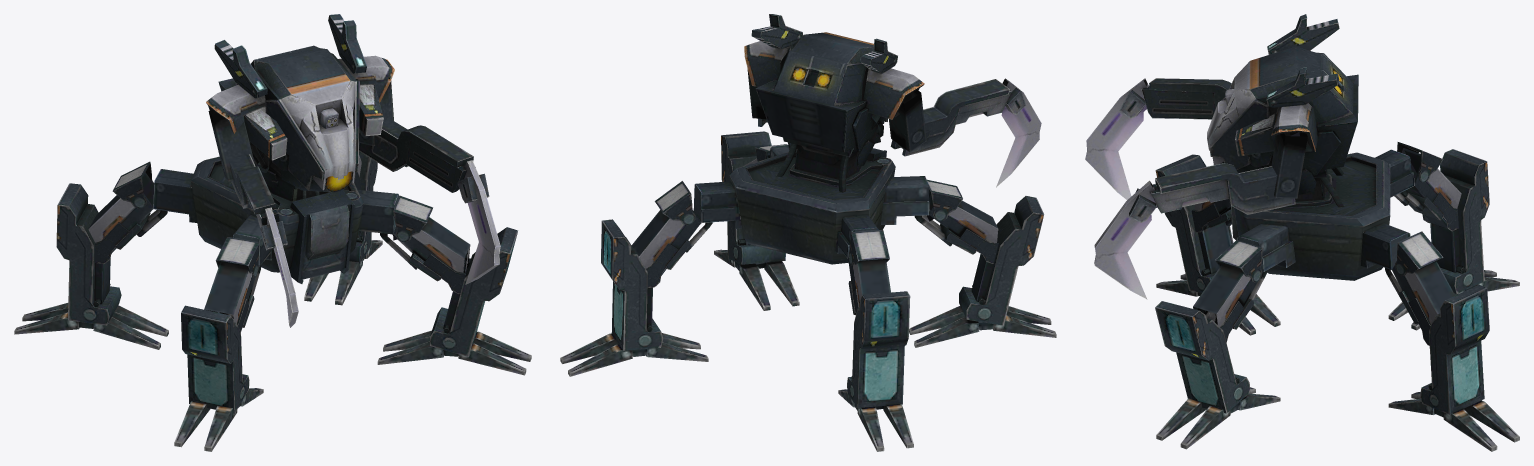
3 renders of one model, left to right at view 1: azimuth 30°, elevation 25°; view 2: azimuth 150°, elevation 25°; view 3: azimuth 270°, elevation 25°, orthographic. The views are drawn at different scales.
Visible parts, largest first — view 1: 20_10; view 2: 20_10; view 3: 20_10.
Part boxes in pixels (x1,y1,x2,y2): 20_10: (14, 14, 531, 451); 20_10: (560, 14, 1056, 451); 20_10: (1085, 14, 1519, 451).
Bounding box in the file's own units: 301 × 254 × 312.
